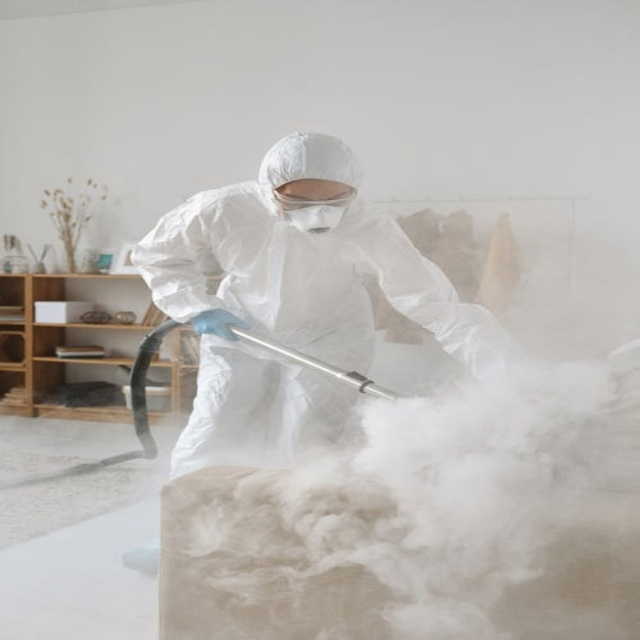Gafas: (271, 185, 355, 212)
Guantes: (189, 308, 249, 340)
Mascara: (277, 198, 350, 235)
